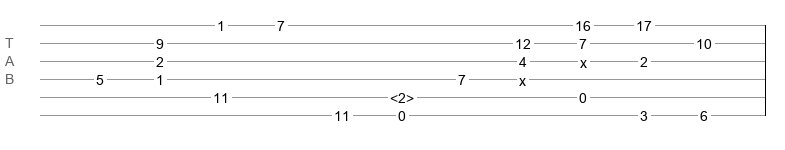0: (398, 108, 406, 118), (579, 90, 587, 100)
1: (156, 72, 164, 82), (217, 18, 225, 28)
10: (696, 36, 712, 46)
11: (213, 90, 229, 100), (334, 108, 350, 118)
12: (515, 36, 531, 46)
16: (575, 18, 591, 28)
17: (636, 18, 652, 28)
2: (156, 54, 164, 64), (640, 54, 648, 64)
3: (640, 108, 648, 118)
4: (519, 54, 527, 64)
5: (96, 72, 104, 82)
6: (700, 108, 708, 118)
7: (277, 18, 285, 28), (458, 72, 466, 82), (579, 36, 587, 46)
9: (156, 36, 164, 46)
harmonic: (390, 90, 414, 100)
x: (519, 73, 526, 81), (580, 55, 587, 63)
